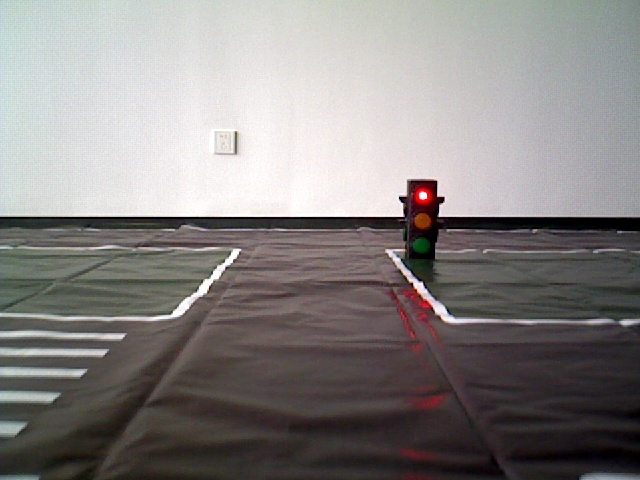red: (406, 177, 434, 258)
